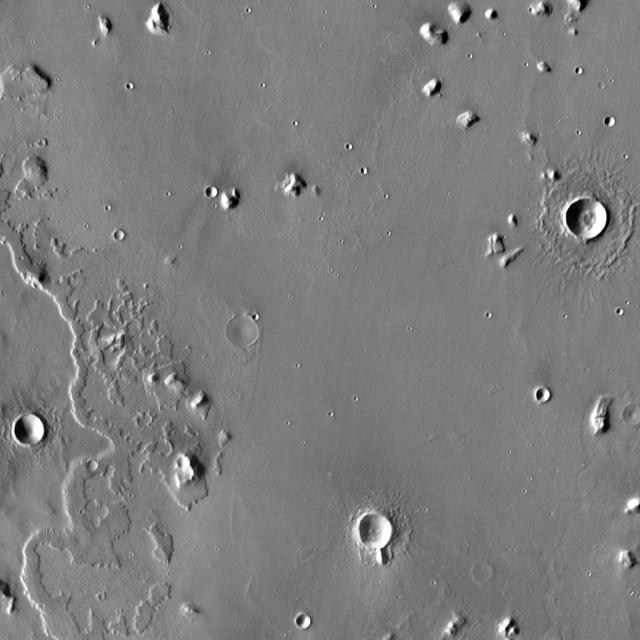crater: (568, 200, 610, 242), (360, 516, 394, 550), (229, 316, 262, 349), (15, 416, 47, 448), (625, 407, 640, 425), (535, 388, 550, 402), (296, 617, 310, 632), (179, 456, 192, 469), (51, 377, 63, 389), (88, 462, 100, 473), (604, 117, 614, 128), (206, 188, 216, 199), (114, 230, 124, 240), (279, 172, 289, 182), (616, 307, 624, 315), (599, 82, 607, 90), (576, 68, 583, 76), (359, 165, 366, 172), (126, 84, 134, 90), (98, 593, 105, 599), (253, 314, 259, 320)
